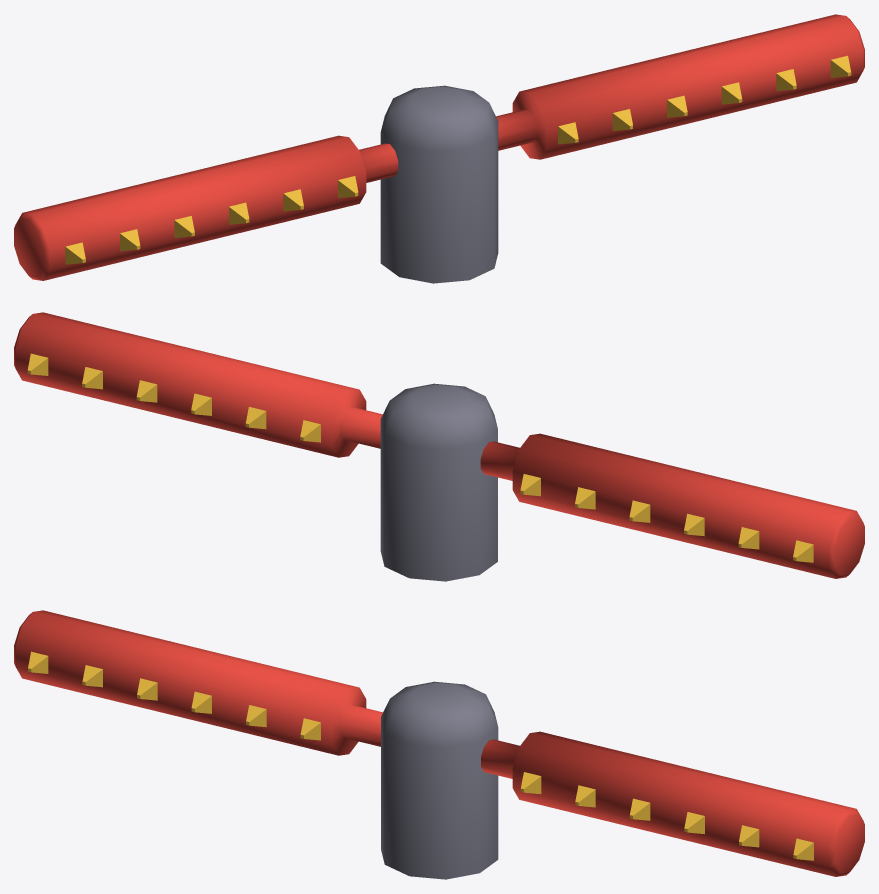
File: obstacle-rot-one.fbx
The picture shows the model from 3 angles, top to bottom: view 1: azimuth 30°, elevation 25°; view 2: azimuth 150°, elevation 25°; view 3: azimuth 330°, elevation 25°; orthographic projection.
Visible parts, largest first — view 1: obstacle-rot-one.001, obstacle-rot-one; view 2: obstacle-rot-one.001, obstacle-rot-one; view 3: obstacle-rot-one.001, obstacle-rot-one.
Part boxes in pixels (x1,y1,x2,y2): obstacle-rot-one.001: (14, 14, 864, 280); obstacle-rot-one: (380, 85, 498, 283); obstacle-rot-one.001: (14, 312, 864, 578); obstacle-rot-one: (380, 383, 497, 581); obstacle-rot-one.001: (14, 610, 864, 876); obstacle-rot-one: (381, 681, 498, 879).
Bounding box in the file's own units: 1.41 × 0.2614 × 0.1787.
